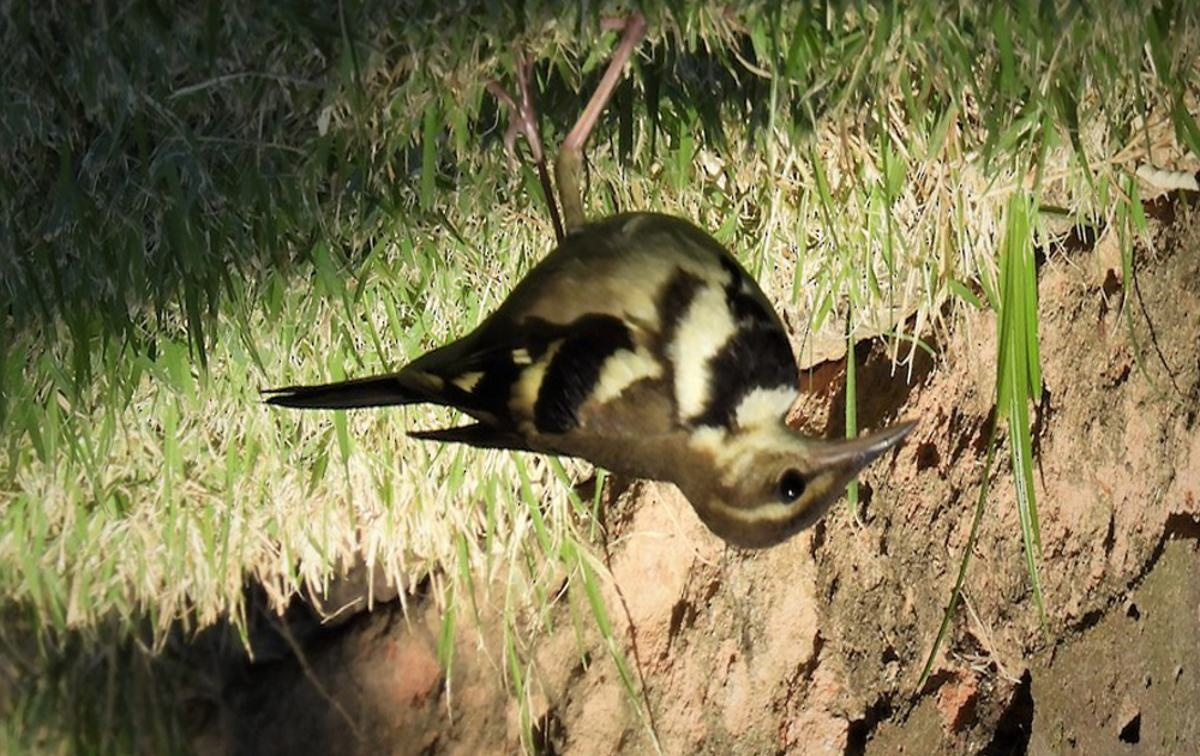wagtail: (309, 201, 869, 554)
